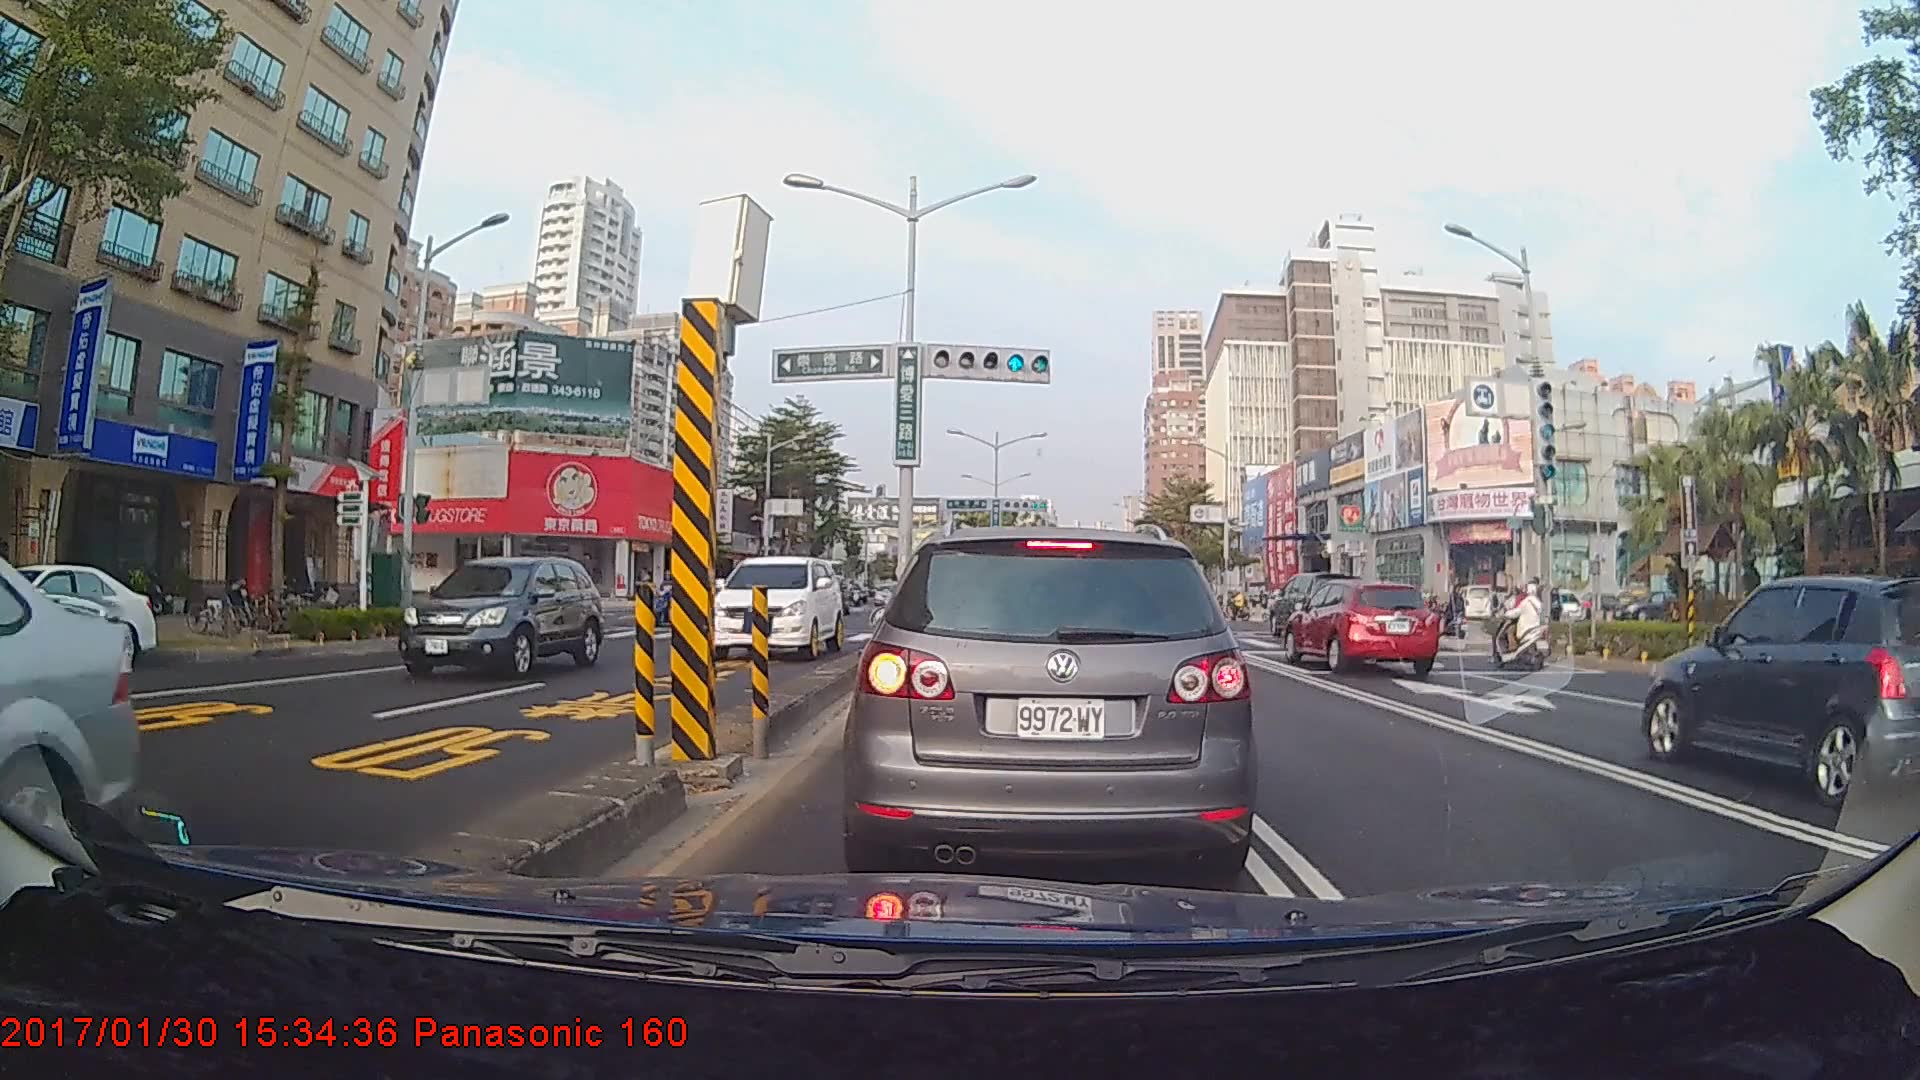rider: (1488, 586, 1559, 679)
vehicle: (853, 522, 1252, 873), (1641, 573, 1919, 808), (393, 553, 603, 678), (0, 561, 157, 671), (1281, 577, 1441, 676), (708, 555, 844, 661), (1266, 569, 1359, 636)
